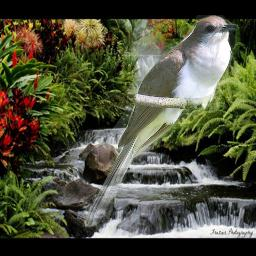Cuckoo: (82, 15, 239, 229)
